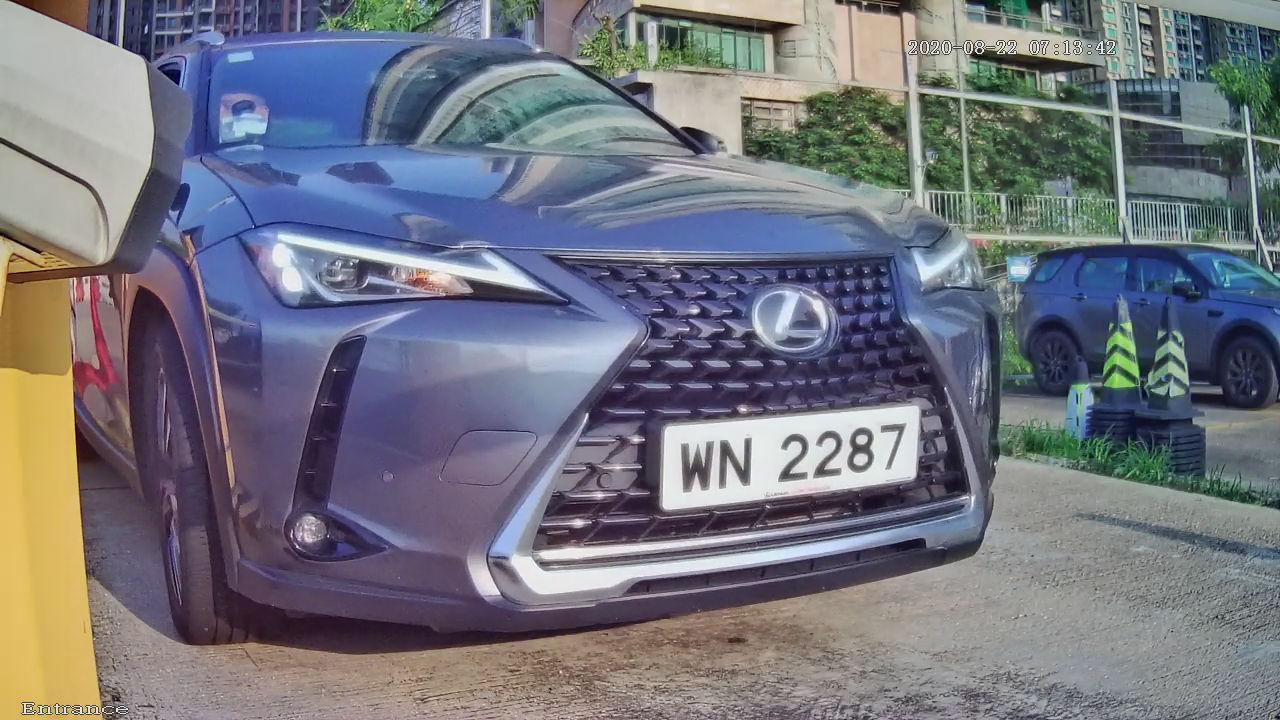Car: (46, 17, 1098, 672)
License Plate: (573, 385, 1005, 523)
